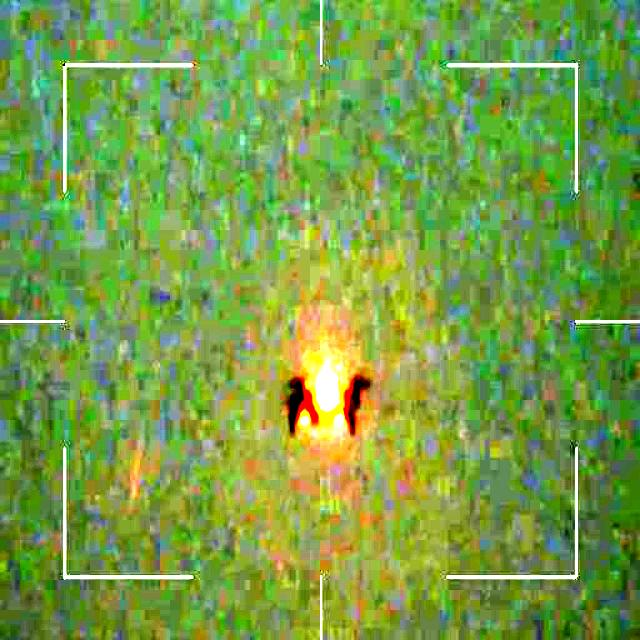bird: (282, 352, 370, 436)
